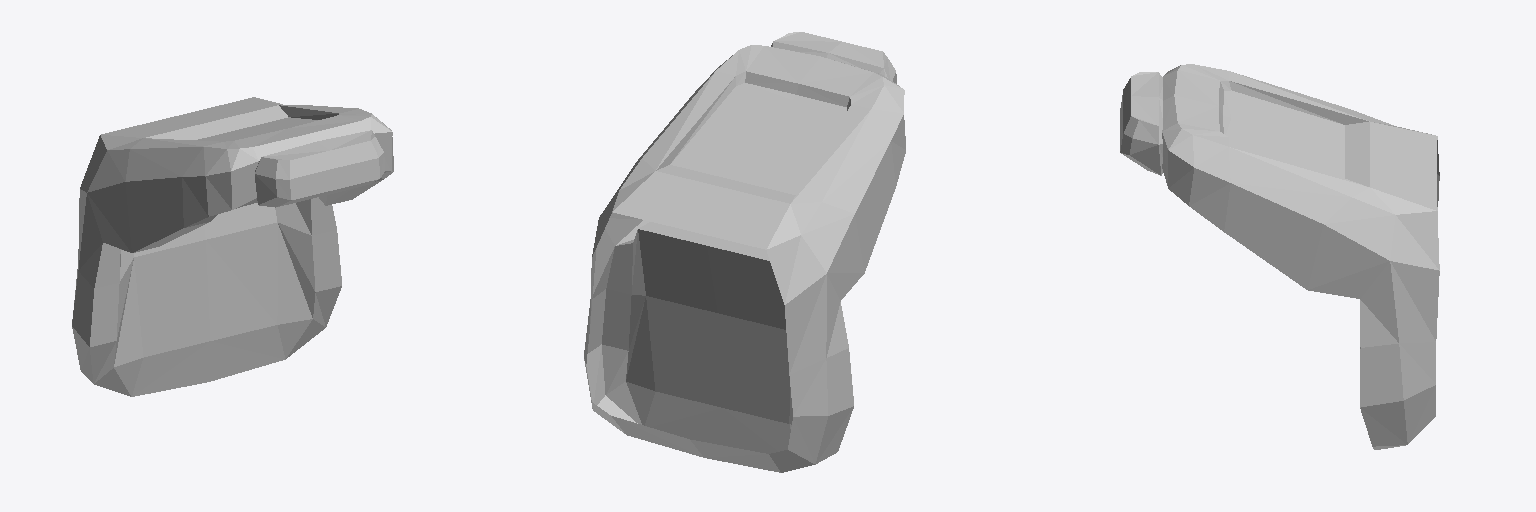
Rendered from AsientoAdelante.obj.
3 views of the same model, side by side, from view 1: azimuth 30°, elevation 25°; view 2: azimuth 150°, elevation 25°; view 3: azimuth 270°, elevation 25° (orthographic).
Visible parts, largest first — view 1: Object.1; view 2: Object.1; view 3: Object.1.
Part boxes in pixels (x1,y1,x2,y2): Object.1: (72,97,393,396); Object.1: (584,32,905,472); Object.1: (1120,64,1439,449).
Bounding box in the file's own units: 4.73 × 5.76 × 5.18.